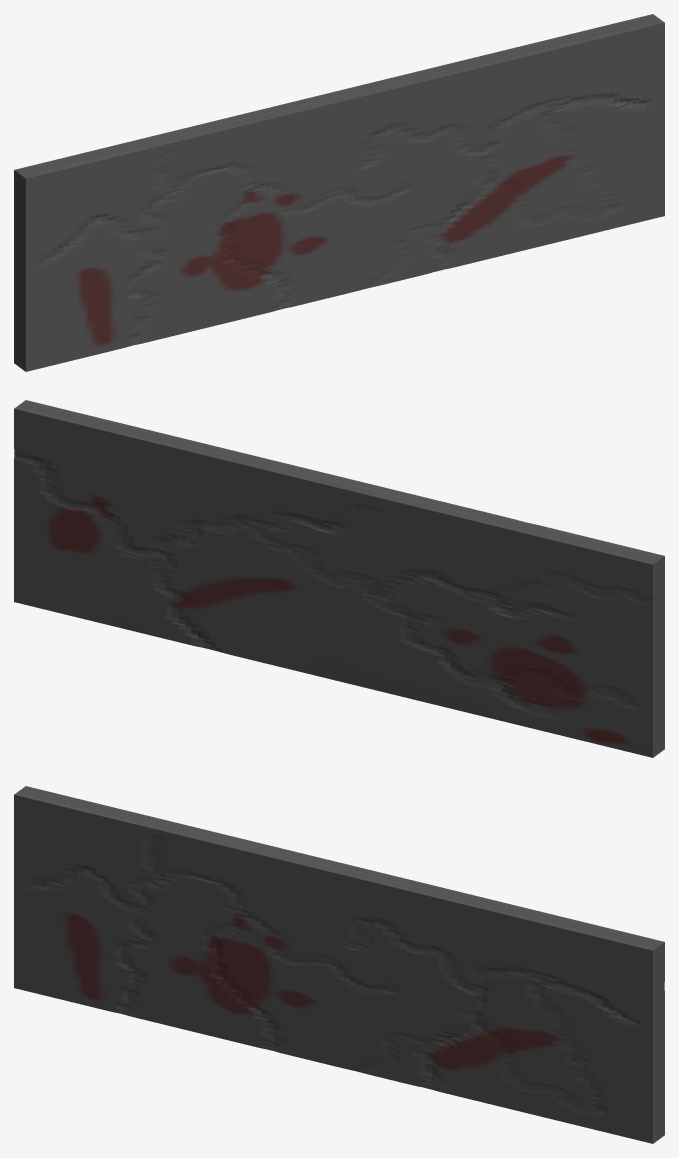
Rendered from Pared.fbx.
The picture shows the model from 3 angles, top to bottom: view 1: azimuth 30°, elevation 25°; view 2: azimuth 150°, elevation 25°; view 3: azimuth 330°, elevation 25°; orthographic projection.
Parts seen in each view (by area): view 1: Cubo.007; view 2: Cubo.007; view 3: Cubo.007.
Part boxes in pixels (bbox=[...]): Cubo.007: bbox=[14, 14, 664, 371]; Cubo.007: bbox=[14, 400, 664, 757]; Cubo.007: bbox=[14, 786, 664, 1143].
Bounding box in the file's own units: 603 × 18612 × 5380.
